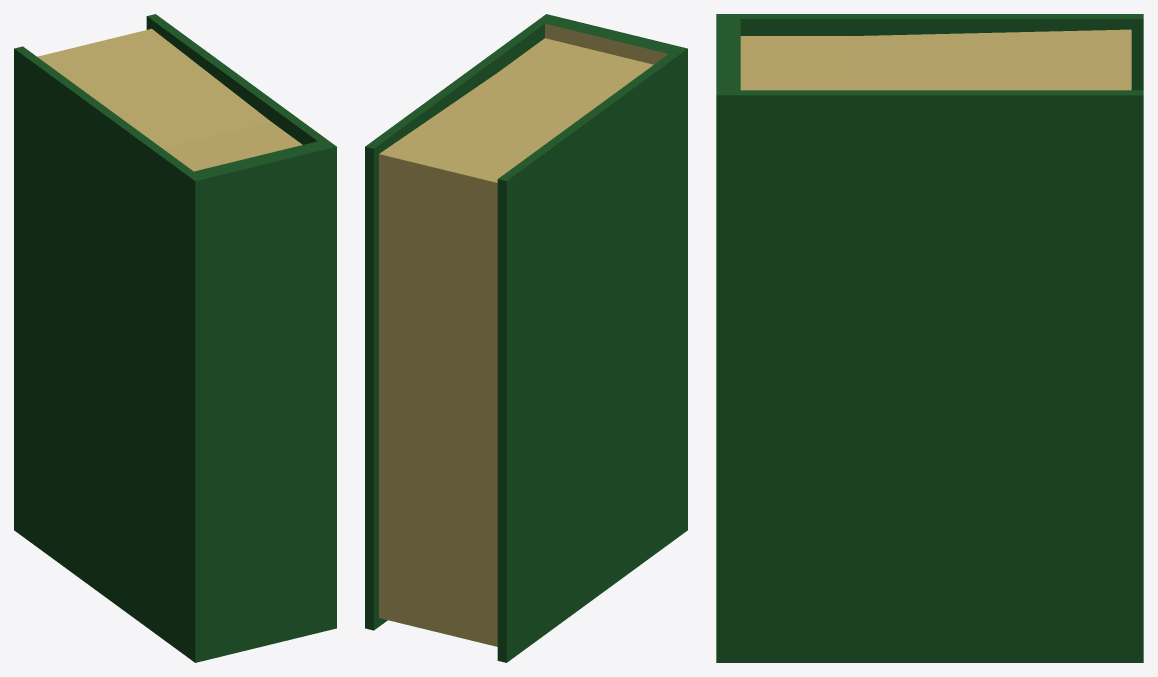
Rendered from CPI441_Fur_BookSingular_Green.fbx.
3 renders of one model, left to right at view 1: azimuth 30°, elevation 25°; view 2: azimuth 150°, elevation 25°; view 3: azimuth 270°, elevation 25°, orthographic. The views are drawn at different scales.
Parts seen in each view (by area): view 1: Cube; view 2: Cube; view 3: Cube.
Boxes of the visible parts, bbox=[...] form: Cube: bbox=[14, 14, 336, 662]; Cube: bbox=[365, 14, 687, 662]; Cube: bbox=[716, 14, 1143, 662].
Size of the model in its own units: 49.65 by 161 by 110.
